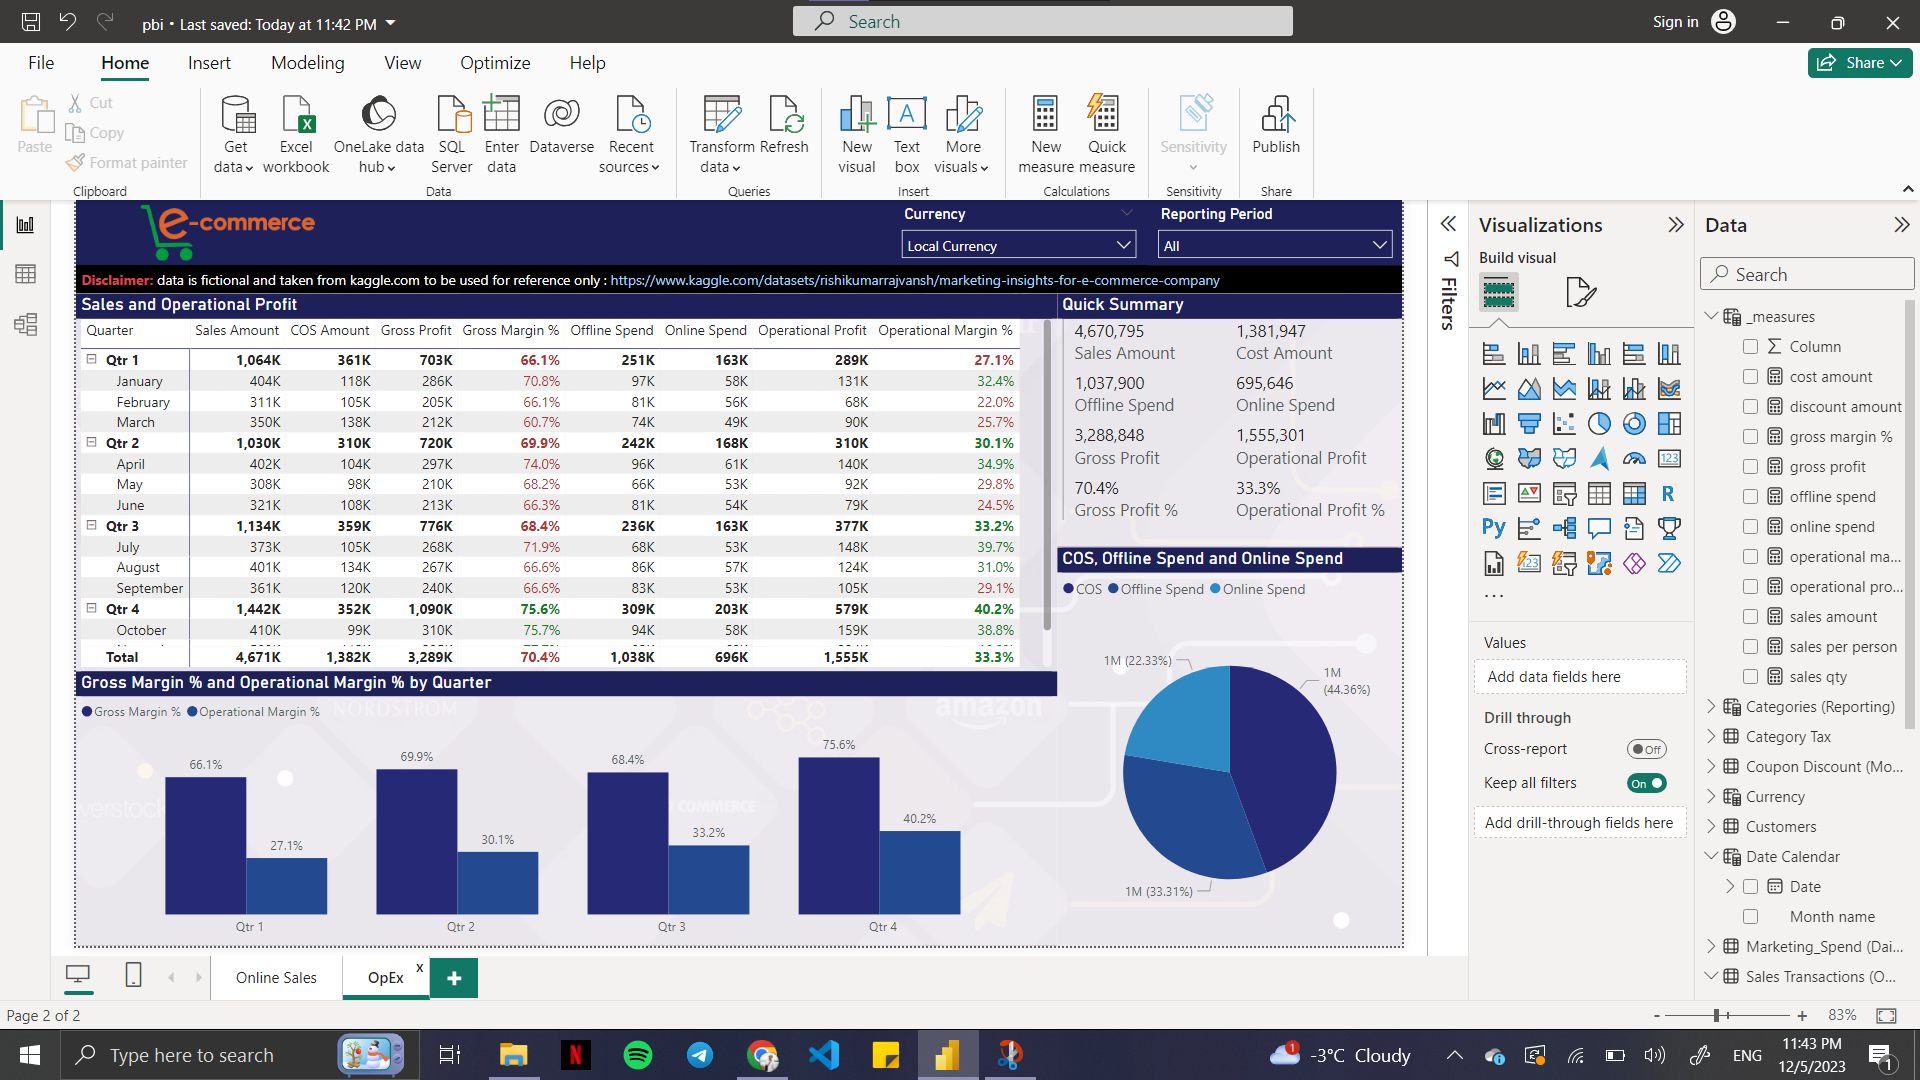

This screenshot's page, from the dashboard's own definition file:
{"tool":"powerbi","page":{"name":"OpEx","canvas":[1280,720],"ordinal":1},"visuals":[{"type":"shape","box":[0,0,1280.3,63.1],"z":0},{"type":"slicer","fields":{"Values":["Currency.Value"]},"box":[786.3,0,247,63.1],"z":9000},{"type":"textbox","box":[0,63.1,1280.3,27.4],"z":10000},{"type":"image","box":[0,0,292.3,63.1],"z":11000},{"type":"slicer","fields":{"Values":["Date Calendar.Date.Variation.Date Hierarchy.Quarter","Date Calendar.Date.Variation.Date Hierarchy.Month","Date Calendar.Date.Variation.Date Hierarchy.Day"]},"box":[1033.3,0,247,63.1],"z":14000},{"type":"pivotTable","title":"Sales and Operational Profit","fields":{"Rows":["Date Calendar.Date.Variation.Date Hierarchy.Quarter","Date Calendar.Date.Variation.Date Hierarchy.Month"],"Values":["_measures.sales amount","_measures.cost amount","_measures.profit","_measures.margin %","_measures.offline spend","_measures.online spend","_measures.operational profit","_measures.operational margin %"]},"box":[0,90.6,946.8,365],"z":14001},{"type":"clusteredColumnChart","fields":{"Category":["Date Calendar.Date.Variation.Date Hierarchy.Quarter"],"Y":["_measures.gross margin %","_measures.operational margin %"]},"box":[0,455.2,946.8,264.8],"z":14002},{"type":"pieChart","fields":{"Y":["_measures.cost amount","_measures.offline spend","_measures.online spend"]},"box":[946.8,334.8,333.4,385.6],"z":14003},{"type":"multiRowCard","title":"Quick Summary","fields":{"Values":["_measures.sales amount","_measures.cost amount","_measures.offline spend","_measures.online spend","_measures.gross profit","_measures.operational profit","_measures.gross margin %","_measures.operational margin %"]},"box":[946.8,90.6,333.4,244.3],"z":14004}]}

Visuals, with their boxes on the page's 1280x720 design canvas (x1, y1, x2, y2). These are canvas units, not pixel positions in the 1920x1080 screenshot, which may show the page scaled, cropped or inside an application window:
shape: box(0, 0, 1280, 63)
slicer - Currency.Value: box(786, 0, 1033, 63)
textbox: box(0, 63, 1280, 90)
image: box(0, 0, 292, 63)
slicer - Date Calendar.Date.Variation.Date Hierarchy.Quarter x Date Calendar.Date.Variation.Date Hierarchy.Month: box(1033, 0, 1280, 63)
"Sales and Operational Profit" pivotTable: box(0, 91, 947, 456)
clusteredColumnChart - Date Calendar.Date.Variation.Date Hierarchy.Quarter x _measures.gross margin %: box(0, 455, 947, 720)
pieChart - _measures.cost amount x _measures.offline spend: box(947, 335, 1280, 720)
"Quick Summary" multiRowCard: box(947, 91, 1280, 335)
